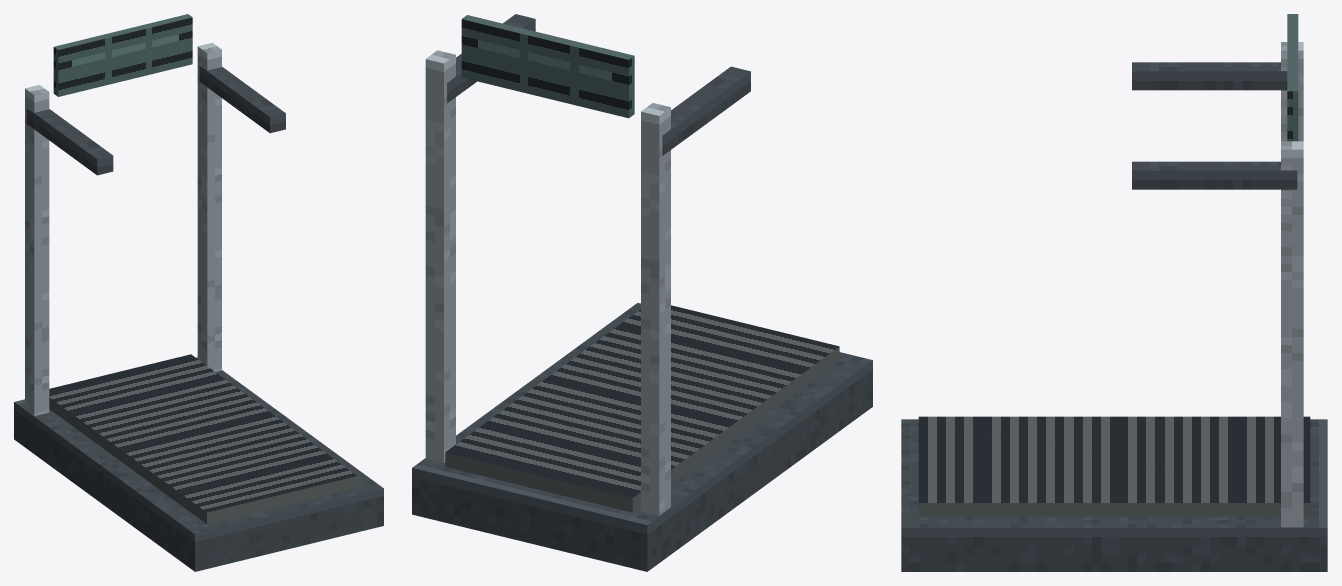
Rendered from f_treadmill.glb.
The picture shows the model from 3 angles, left to right: view 1: azimuth 30°, elevation 25°; view 2: azimuth 150°, elevation 25°; view 3: azimuth 270°, elevation 25°; orthographic projection. The views are drawn at different scales.
Parts seen in each view (by area): view 1: block_running-belt, block_deck, block_runner-upright--0.27, block_runner-upright-0.27, block_training-console, block_handgrip--0.27, block_handgrip-0.27; view 2: block_running-belt, block_deck, block_runner-upright-0.27, block_runner-upright--0.27, block_training-console, block_handgrip--0.27, block_handgrip-0.27; view 3: block_running-belt, block_deck, block_runner-upright-0.27, block_handgrip-0.27, block_handgrip--0.27, block_training-console, block_runner-upright--0.27.
Boxes of the visible parts, bbox=[...] form: block_running-belt: bbox=[49, 354, 357, 524]; block_deck: bbox=[14, 357, 383, 571]; block_runner-upright--0.27: bbox=[25, 85, 49, 416]; block_runner-upright-0.27: bbox=[197, 42, 221, 371]; block_training-console: bbox=[53, 14, 192, 96]; block_handgrip--0.27: bbox=[27, 108, 113, 175]; block_handgrip-0.27: bbox=[199, 65, 285, 133]; block_running-belt: bbox=[445, 305, 839, 512]; block_deck: bbox=[412, 303, 872, 571]; block_runner-upright-0.27: bbox=[425, 50, 455, 463]; block_runner-upright--0.27: bbox=[641, 103, 670, 515]; block_training-console: bbox=[461, 15, 634, 118]; block_handgrip--0.27: bbox=[662, 66, 750, 155]; block_handgrip-0.27: bbox=[447, 14, 535, 102]; block_running-belt: bbox=[918, 416, 1310, 516]; block_deck: bbox=[901, 419, 1327, 571]; block_runner-upright-0.27: bbox=[1281, 141, 1303, 527]; block_handgrip-0.27: bbox=[1132, 161, 1297, 189]; block_handgrip--0.27: bbox=[1132, 62, 1287, 90]; block_training-console: bbox=[1287, 14, 1298, 141]; block_runner-upright--0.27: bbox=[1281, 42, 1303, 141].
Bounding box in the file's own units: 0.59 × 1.18 × 0.98.
1 material, 1 textured.
